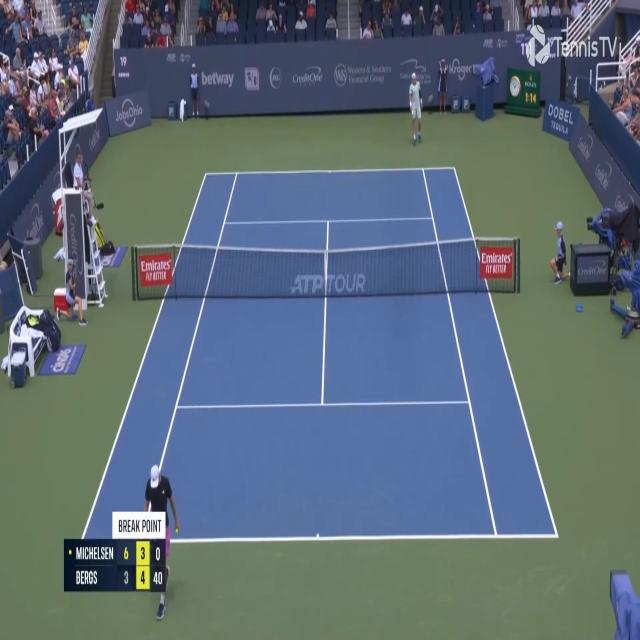tennis-player: (144, 461, 181, 624), (408, 73, 423, 146)
